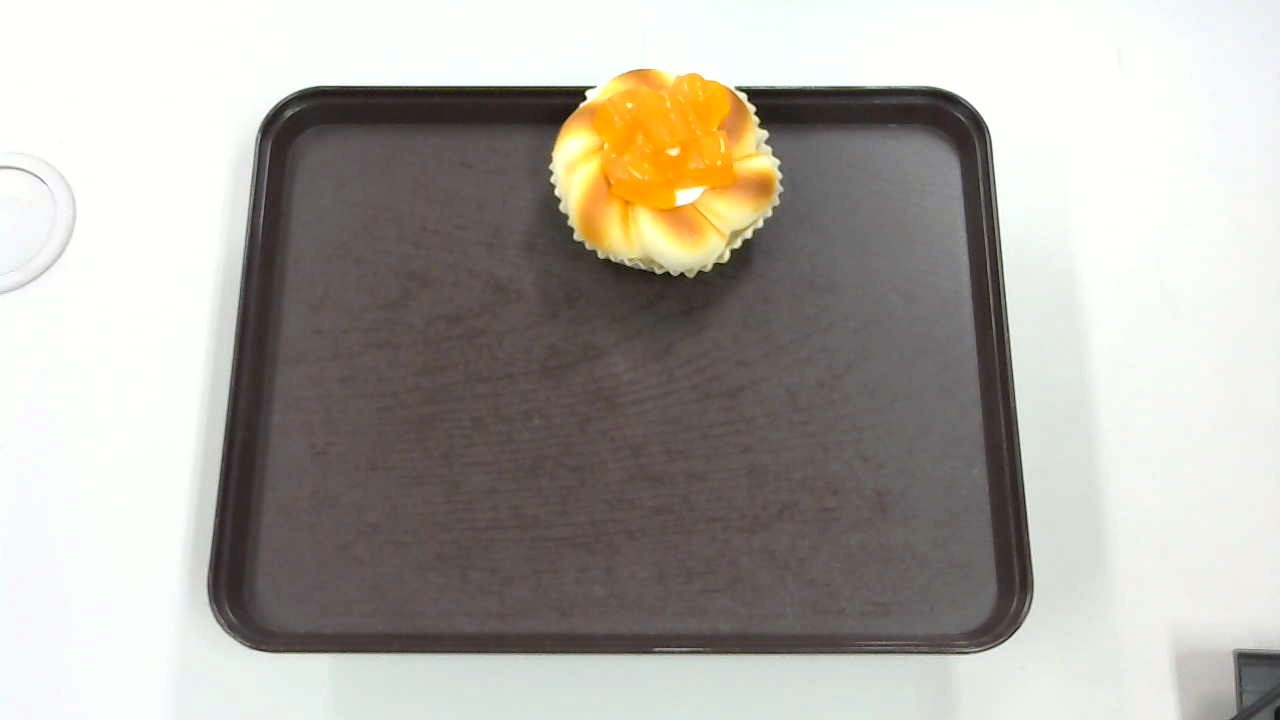mango tart: (550, 68, 782, 279)
